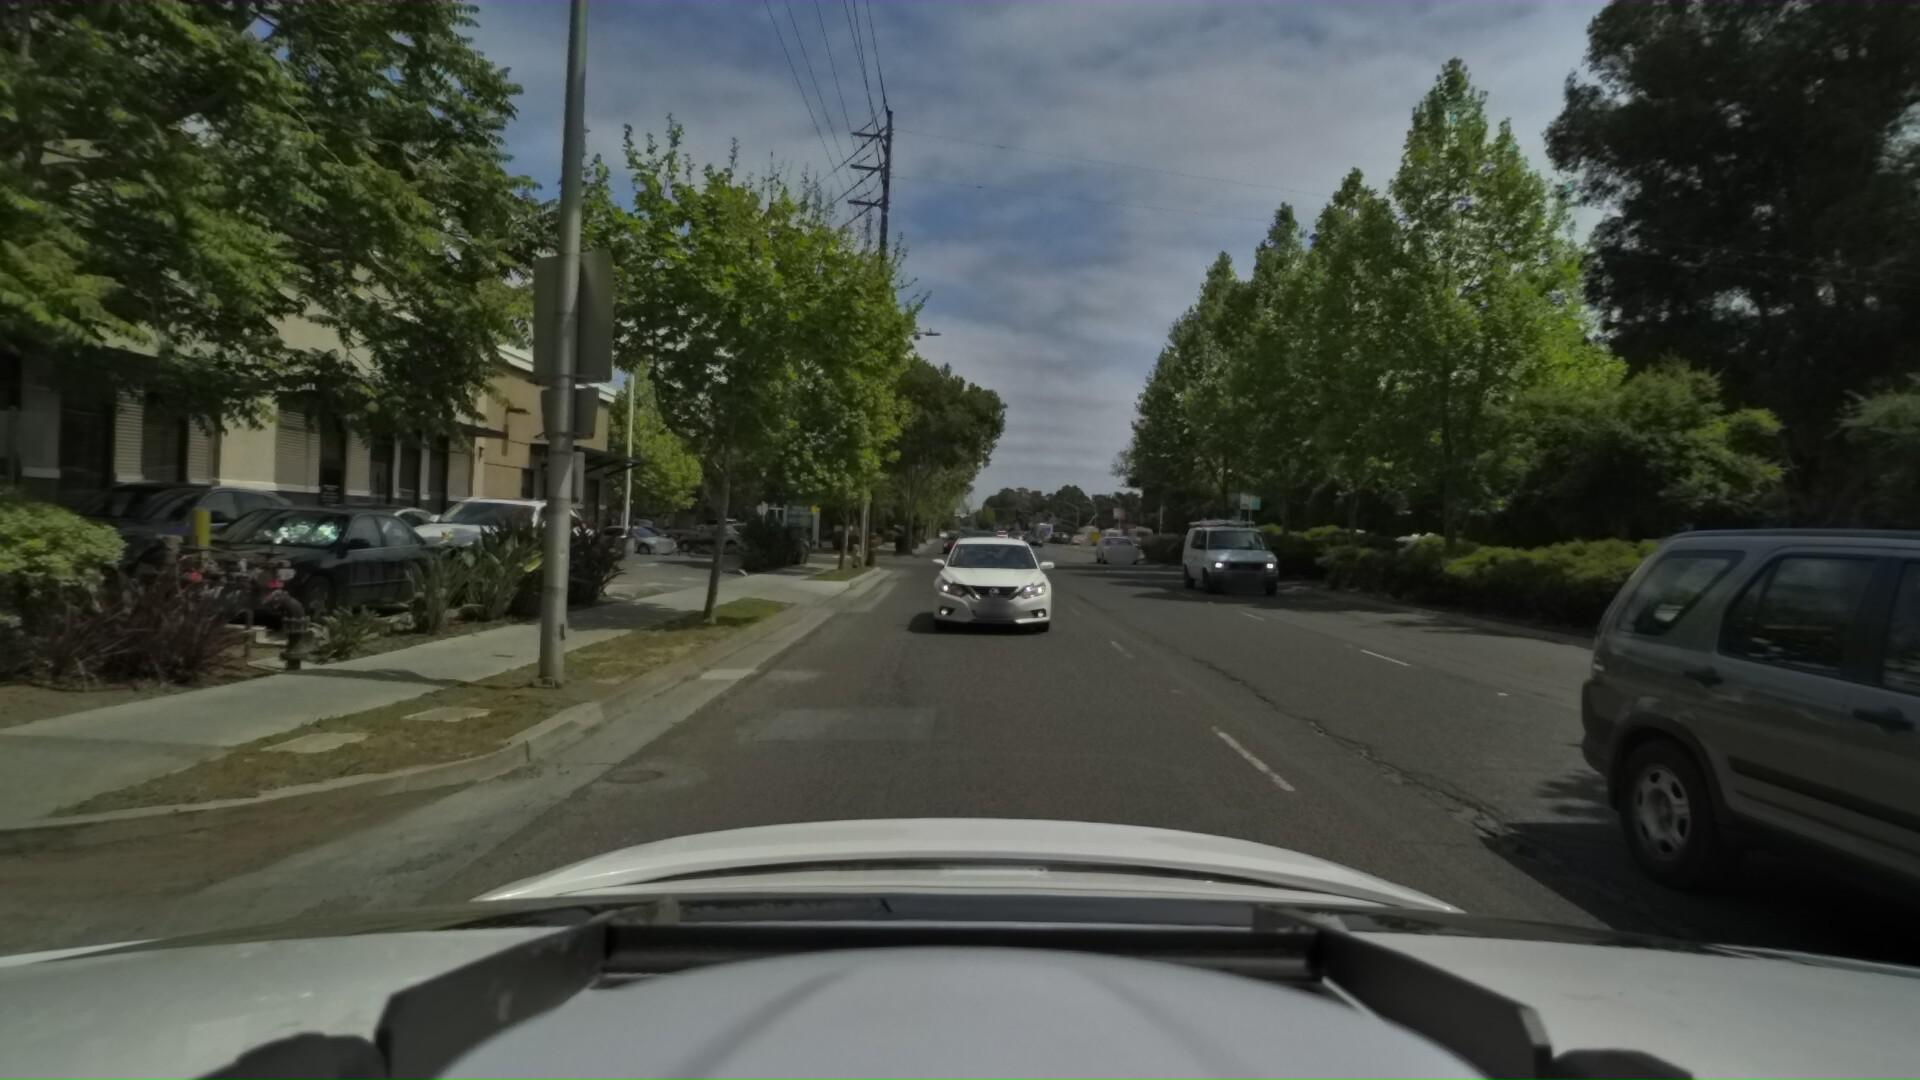car: (1419, 481, 1920, 1080), (131, 488, 488, 640), (0, 462, 345, 615), (393, 483, 618, 603), (264, 489, 487, 589), (926, 527, 1064, 637), (1164, 506, 1269, 591), (580, 520, 688, 556), (717, 517, 815, 556), (669, 522, 764, 555), (599, 520, 686, 551), (1087, 521, 1135, 566), (945, 525, 993, 564), (934, 521, 968, 556)
other_vehicle: (1602, 524, 1859, 633), (1362, 527, 1456, 583)
